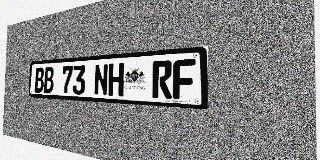3: (72, 65, 85, 95)
7: (61, 66, 73, 94)
B: (34, 67, 44, 93), (44, 67, 54, 93)
F: (173, 59, 195, 100)
H: (108, 63, 124, 96)
N: (94, 64, 108, 96)
R: (152, 60, 172, 99)
